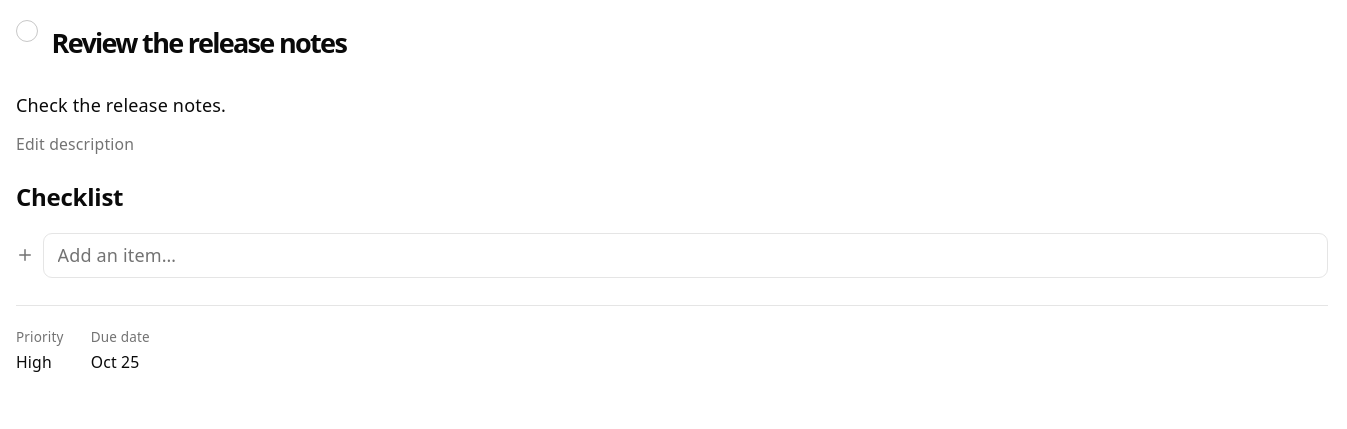
Test: TaskDetailView › keeps title edit typography and heading semantics while editing
Double-click the button with aria-label "Task title: Review the release notes": (199, 42) [52, 26, 1328, 59]
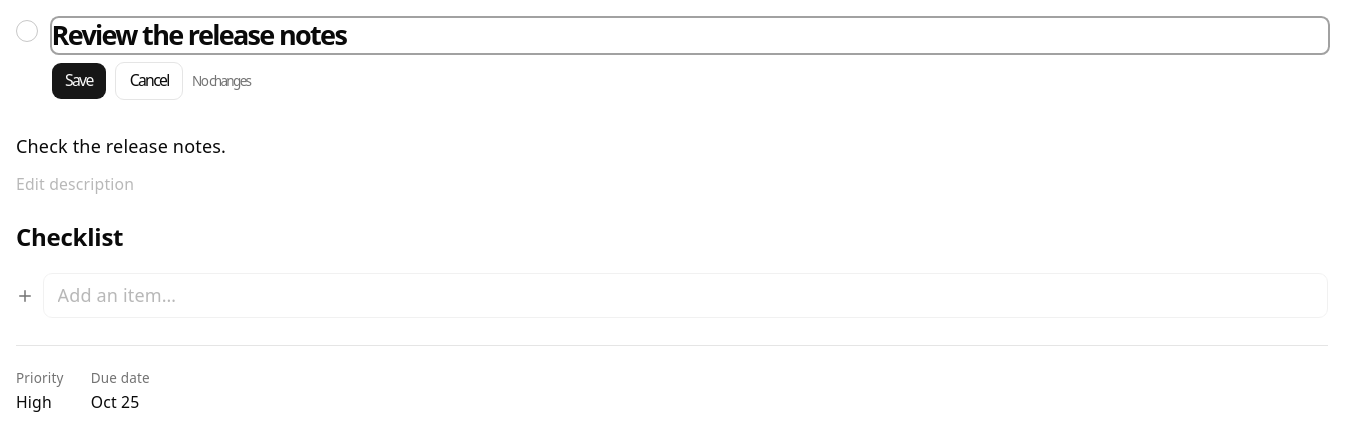
Now the heading named "Review the release notes" is shown, box [16, 18, 1328, 100]
